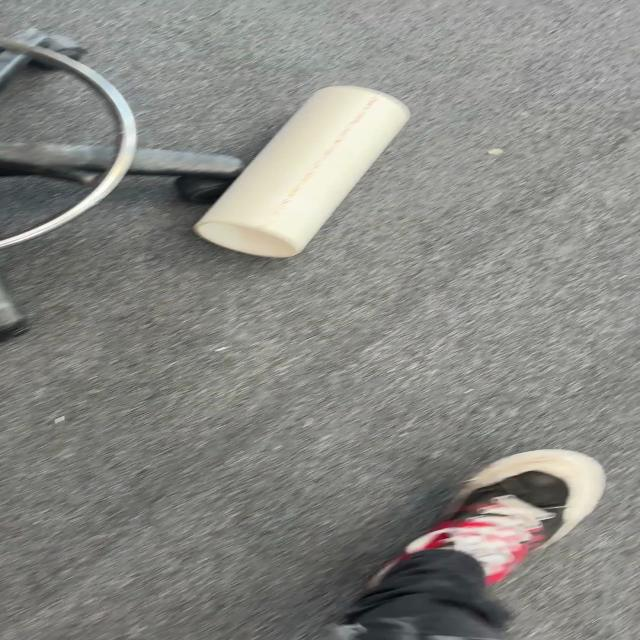Coral: (191, 83, 411, 259)
